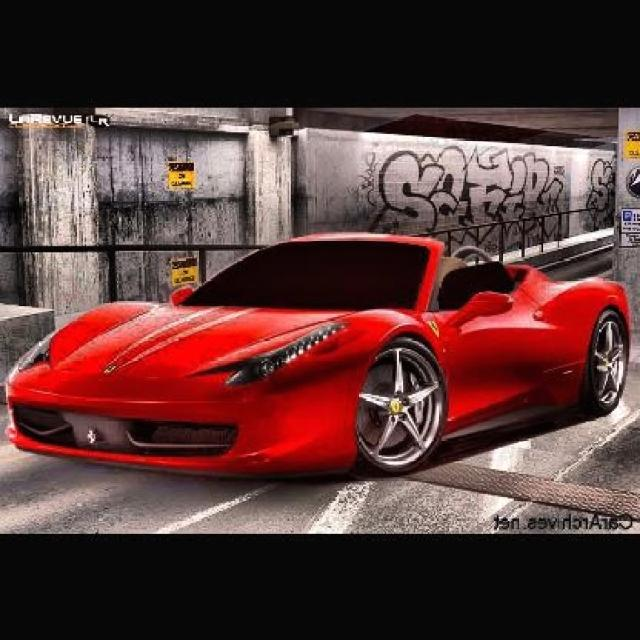maroon: (9, 231, 628, 474)
